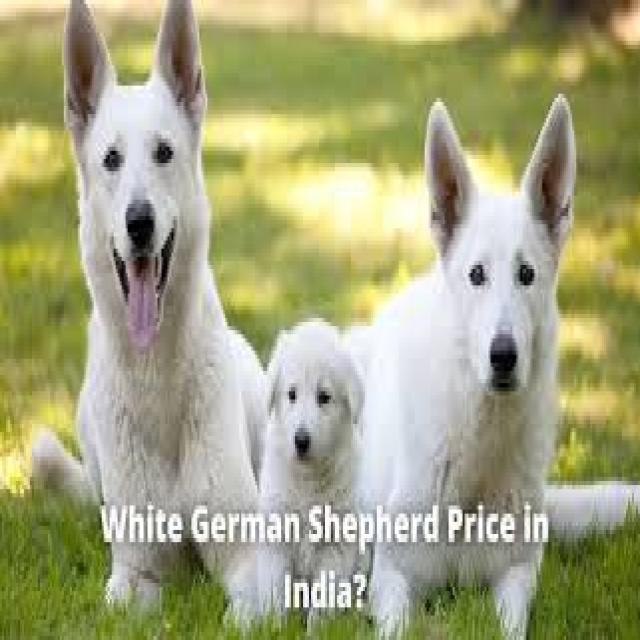Dog: (60, 0, 241, 615), (379, 89, 581, 508), (250, 314, 369, 608)
